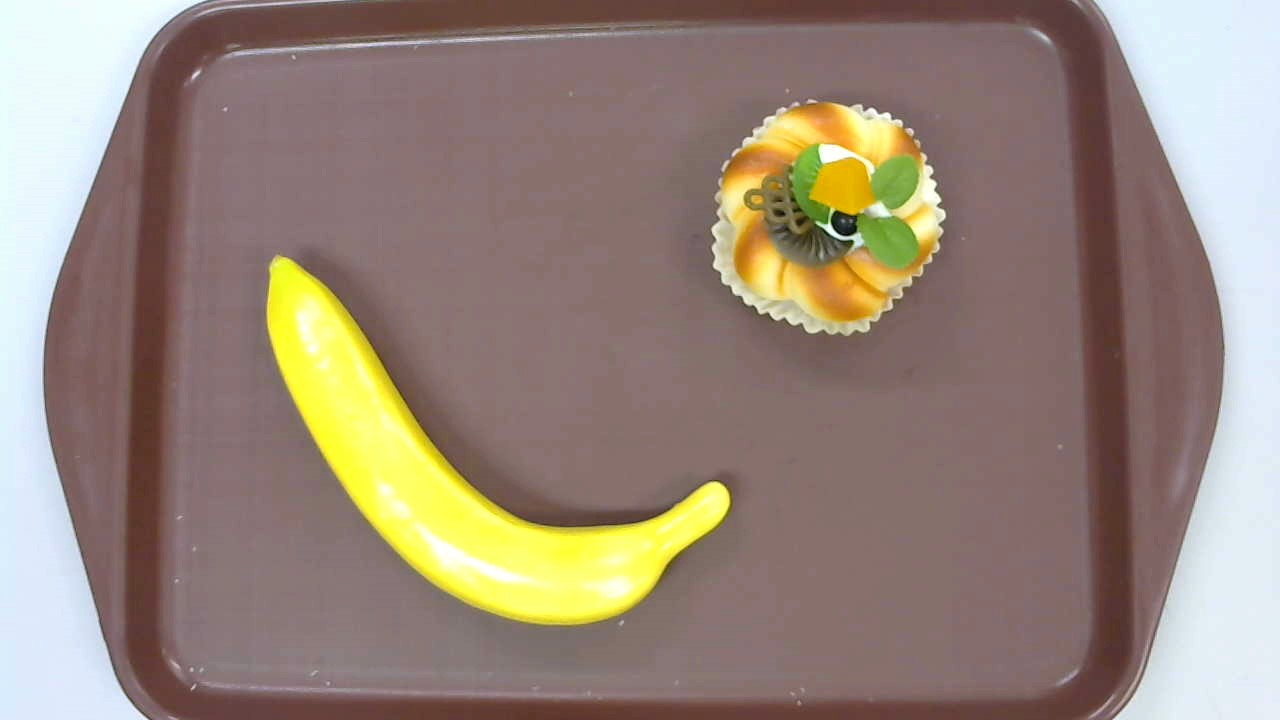banana: (266, 253, 731, 627)
fruit tart: (711, 98, 946, 338)
